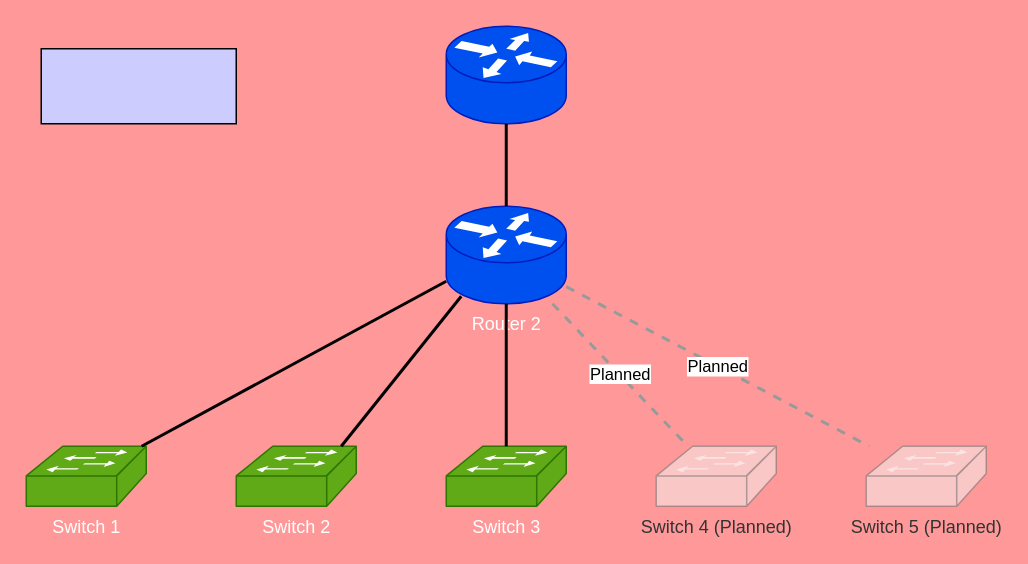
Some shapes in this 1028 by 564 pixel diagram are drawn without their labels. The shapes that lost their labels are listed below. From the top down, each one's centre as x and y in pixels, then its label:
At point (138, 85): "MY HOMELAB TOPOLOGY".
At point (505, 74): "Router 1 (Gateway)".
